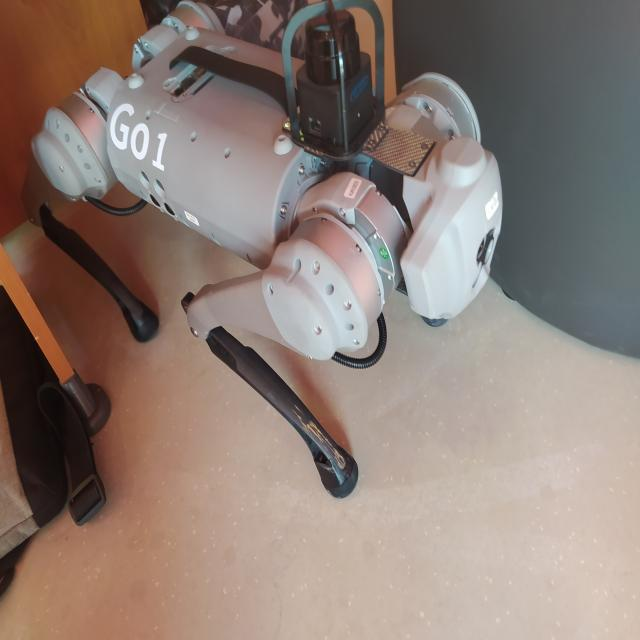unitree-go1-robot: (24, 5, 504, 510)
